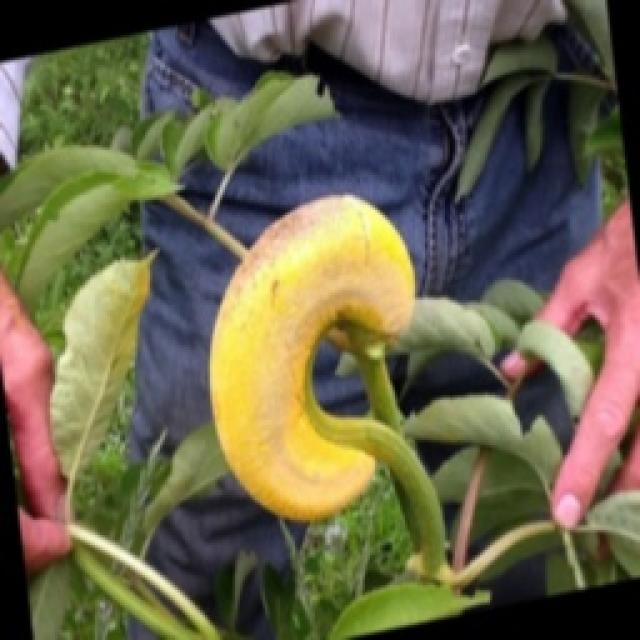Elderberry_rust: (205, 190, 420, 522)
